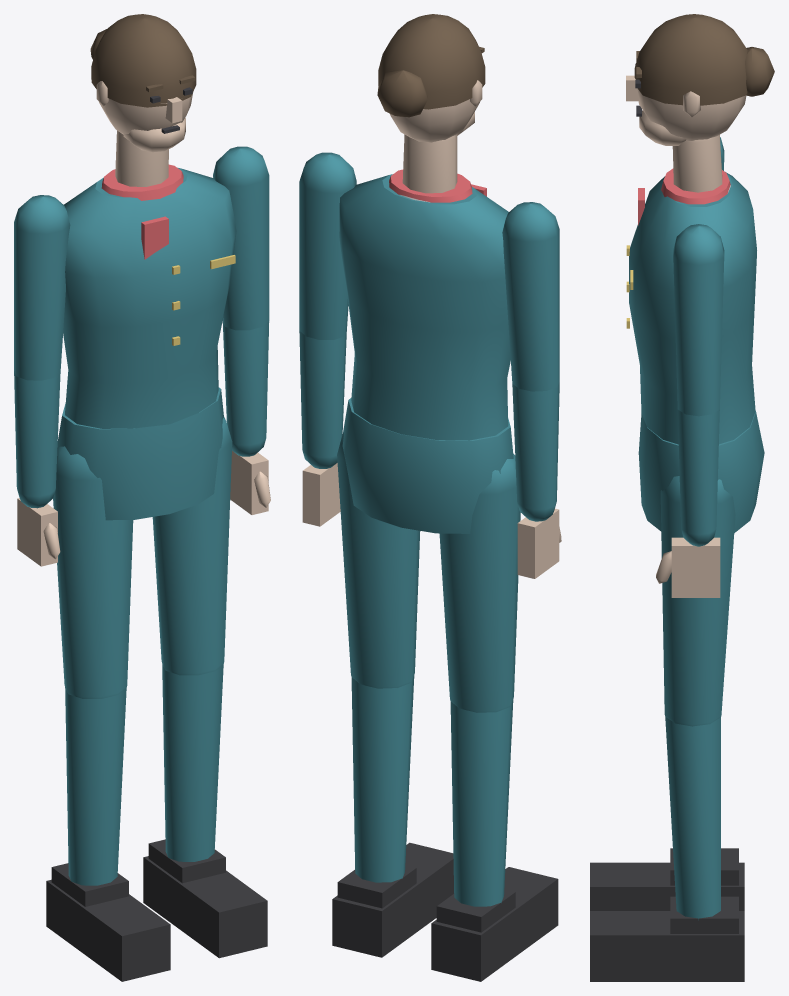
File: CabinCrew.glb
3 renders of one model, left to right at view 1: azimuth 30°, elevation 25°; view 2: azimuth 150°, elevation 25°; view 3: azimuth 270°, elevation 25°, orthographic. The views are drawn at different scales.
Parts seen in each view (by area): view 1: Spine, UpperLeg_R, UpperLeg_L, Hips, Head, LowerLeg_R, LowerLeg_L, Foot_R, Foot_L, UpperArm_R, UpperArm_L, LowerArm_R (+4 smaller); view 2: Spine, UpperLeg_R, Hips, UpperLeg_L, LowerLeg_R, LowerLeg_L, Head, UpperArm_R, Foot_R, Foot_L, UpperArm_L, LowerArm_R (+4 smaller); view 3: Spine, Head, Foot_L, UpperLeg_L, LowerLeg_L, UpperArm_L, Hips, Foot_R, LowerArm_L, Hand_L, Neck.
Part boxes in pixels (bbox=[...]): Spine: bbox=[63, 164, 236, 428]; UpperLeg_R: bbox=[53, 446, 133, 698]; UpperLeg_L: bbox=[152, 417, 232, 675]; Hips: bbox=[57, 387, 223, 520]; Head: bbox=[90, 14, 196, 152]; LowerLeg_R: bbox=[65, 687, 126, 885]; LowerLeg_L: bbox=[162, 664, 223, 861]; Foot_R: bbox=[46, 863, 170, 981]; Foot_L: bbox=[143, 839, 267, 958]; UpperArm_R: bbox=[14, 195, 70, 380]; UpperArm_L: bbox=[213, 146, 269, 330]; LowerArm_R: bbox=[14, 371, 60, 508]; Spine: bbox=[339, 169, 510, 440]; UpperLeg_R: bbox=[439, 454, 520, 712]; Hips: bbox=[342, 398, 513, 533]; UpperLeg_L: bbox=[337, 433, 420, 688]; LowerLeg_R: bbox=[450, 700, 513, 906]; LowerLeg_L: bbox=[351, 675, 414, 882]; Head: bbox=[377, 14, 485, 142]; UpperArm_R: bbox=[502, 202, 559, 391]; Foot_R: bbox=[431, 867, 558, 981]; Foot_L: bbox=[332, 842, 453, 957]; UpperArm_L: bbox=[299, 152, 356, 339]; LowerArm_R: bbox=[512, 382, 559, 521]; Spine: bbox=[626, 168, 756, 444]; Head: bbox=[626, 14, 774, 145]; Foot_L: bbox=[590, 896, 744, 981]; UpperLeg_L: bbox=[660, 476, 735, 726]; LowerLeg_L: bbox=[665, 717, 720, 920]; UpperArm_L: bbox=[673, 224, 724, 416]; Hips: bbox=[638, 411, 764, 532]; Foot_R: bbox=[590, 848, 744, 910]; LowerArm_L: bbox=[677, 409, 719, 546]; Hand_L: bbox=[656, 537, 720, 597]; Neck: bbox=[672, 134, 722, 192].
Size of the model in its own units: 0.4954 by 1.72 by 0.3101.
